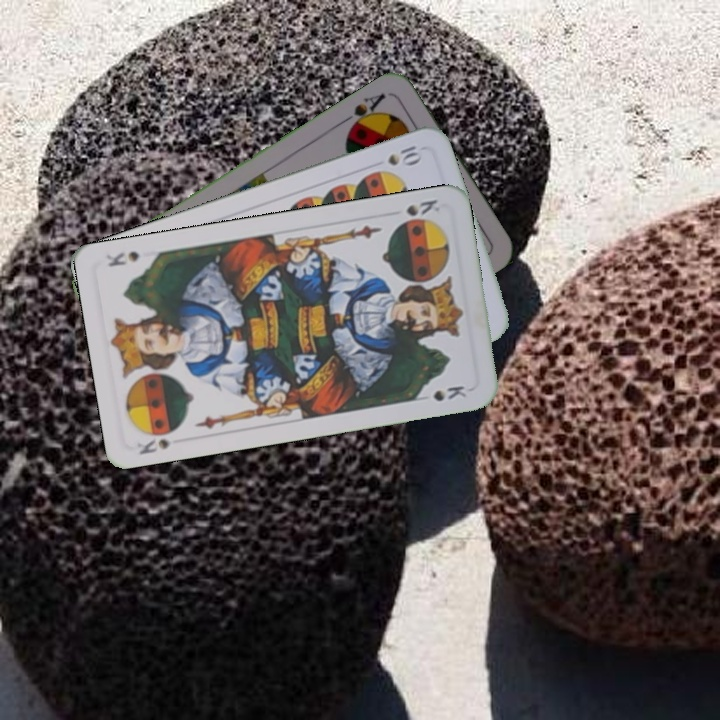S10: (384, 141, 422, 168)
SA: (338, 89, 389, 135)
SK: (132, 424, 182, 457), (402, 195, 444, 219)
